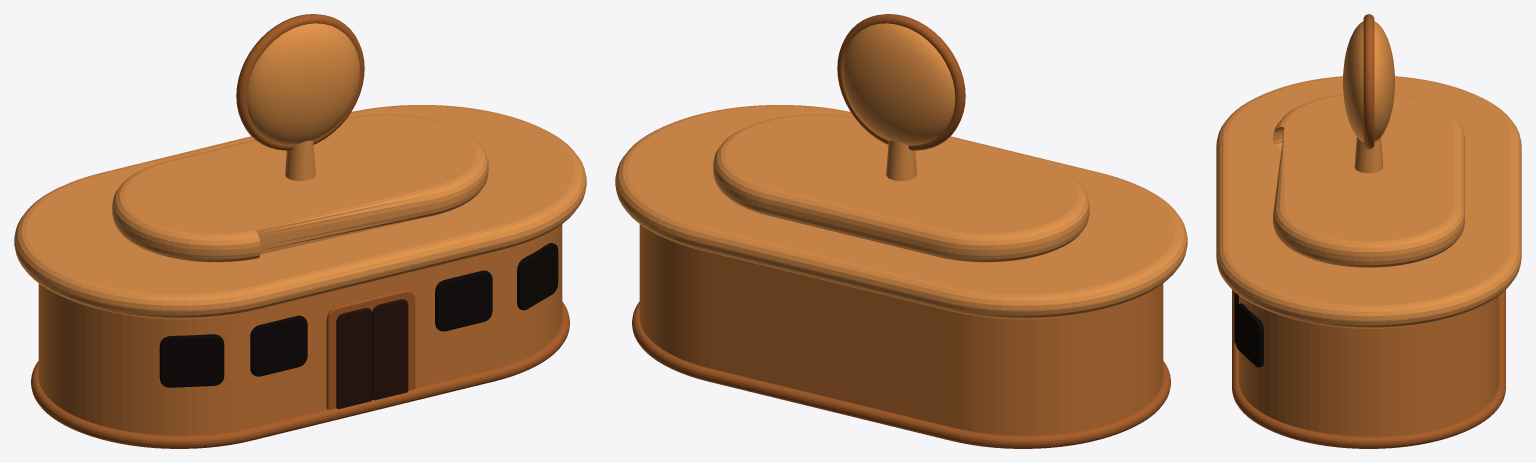
Rendered from diner.glb.
3 renders of one model, left to right at view 1: azimuth 30°, elevation 25°; view 2: azimuth 150°, elevation 25°; view 3: azimuth 270°, elevation 25°, orthographic. The views are drawn at different scales.
Visible parts, largest first — view 1: diner; view 2: diner; view 3: diner.
Part boxes in pixels (<box>): diner: <box>14,14,586,448</box>; diner: <box>615,14,1187,448</box>; diner: <box>1216,14,1521,448</box>.
Size of the model in its own units: 10 by 6.2 by 5.4.
